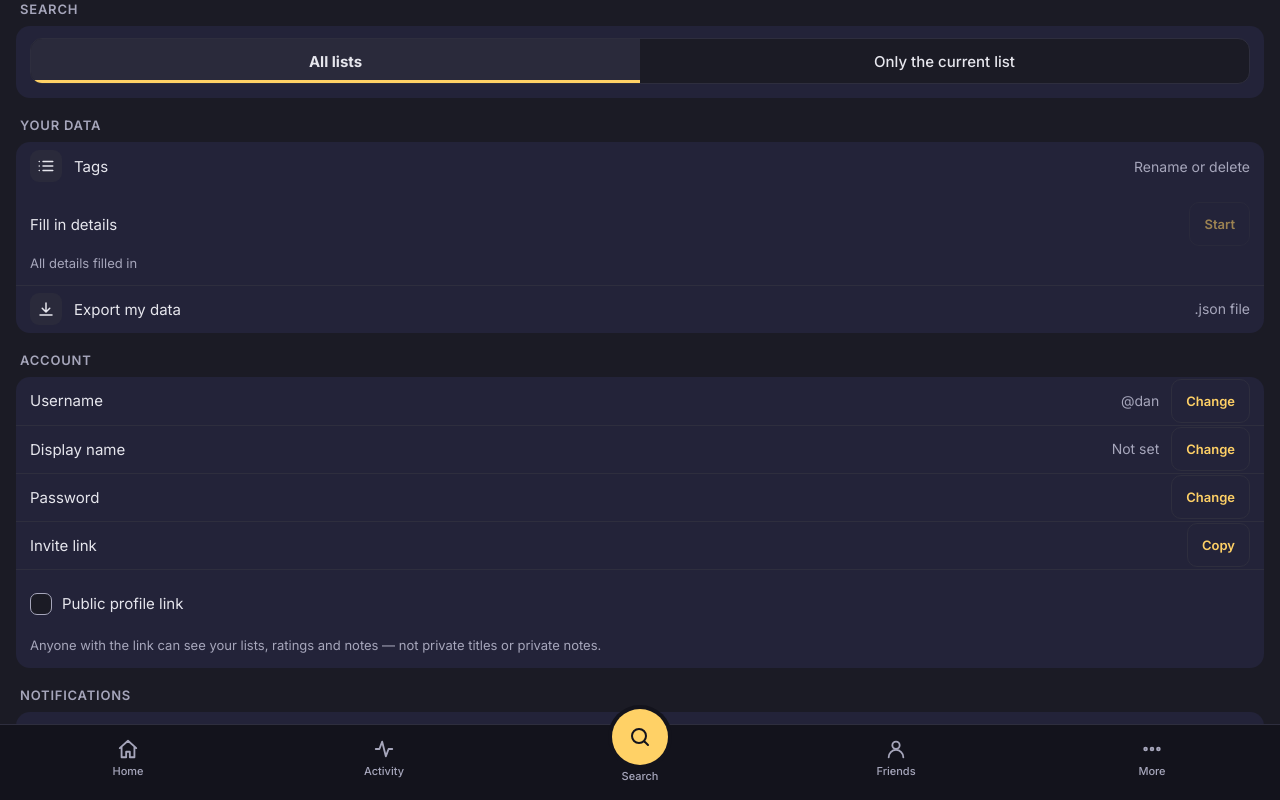
SettingsScreen › changes the username, showing a taken error inline
(page scrolled)
Click the button with aria-label "Change username": (1211, 401) [1171, 379, 1250, 423]
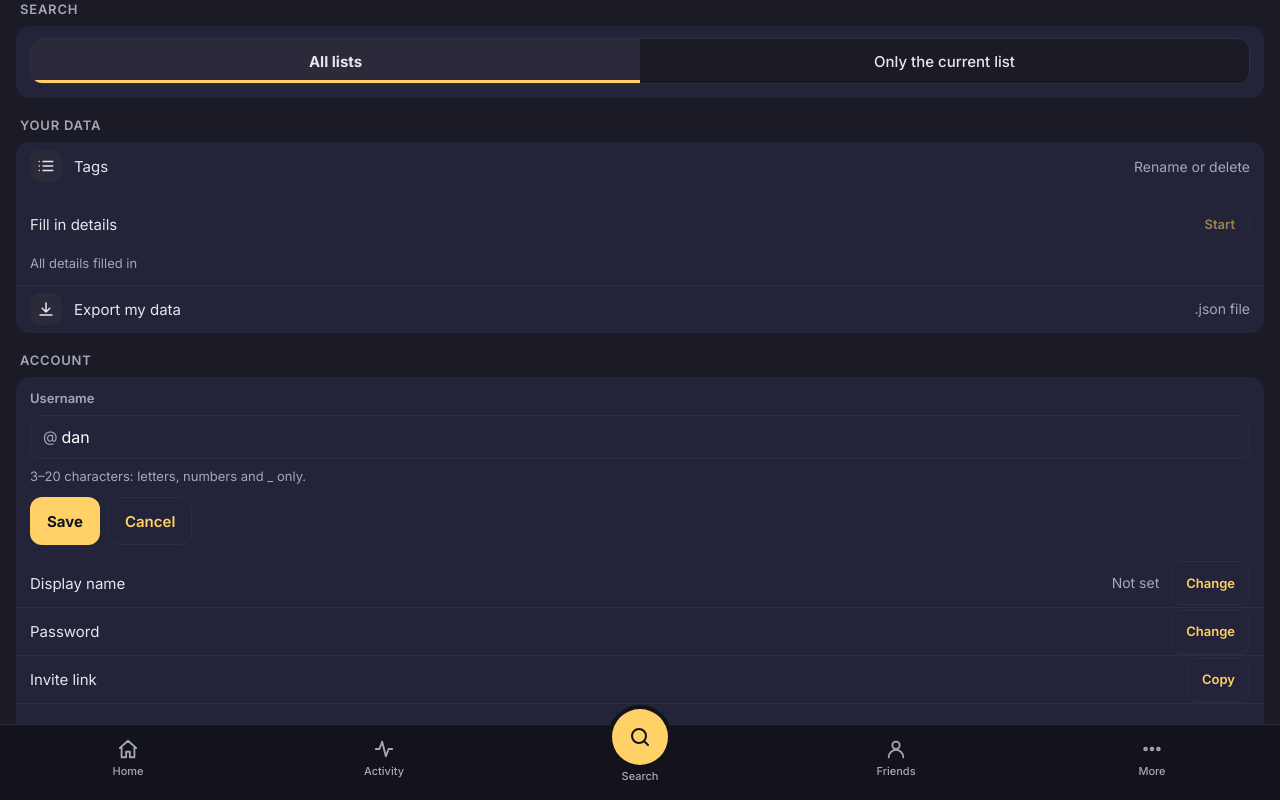
Replace the text in the field labelled "Username" with "ren": (648, 437) [60, 416, 1237, 458]
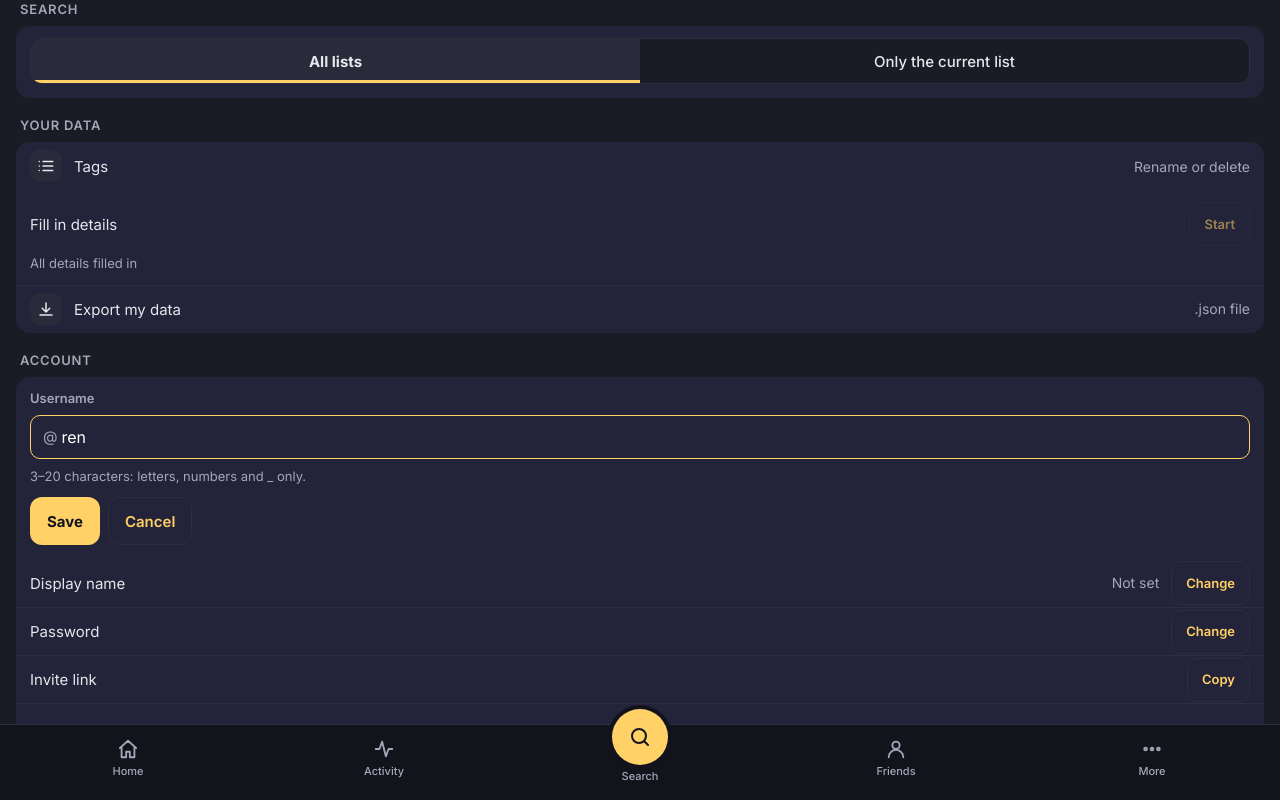
Click the button "Save": (65, 521) [30, 497, 100, 545]
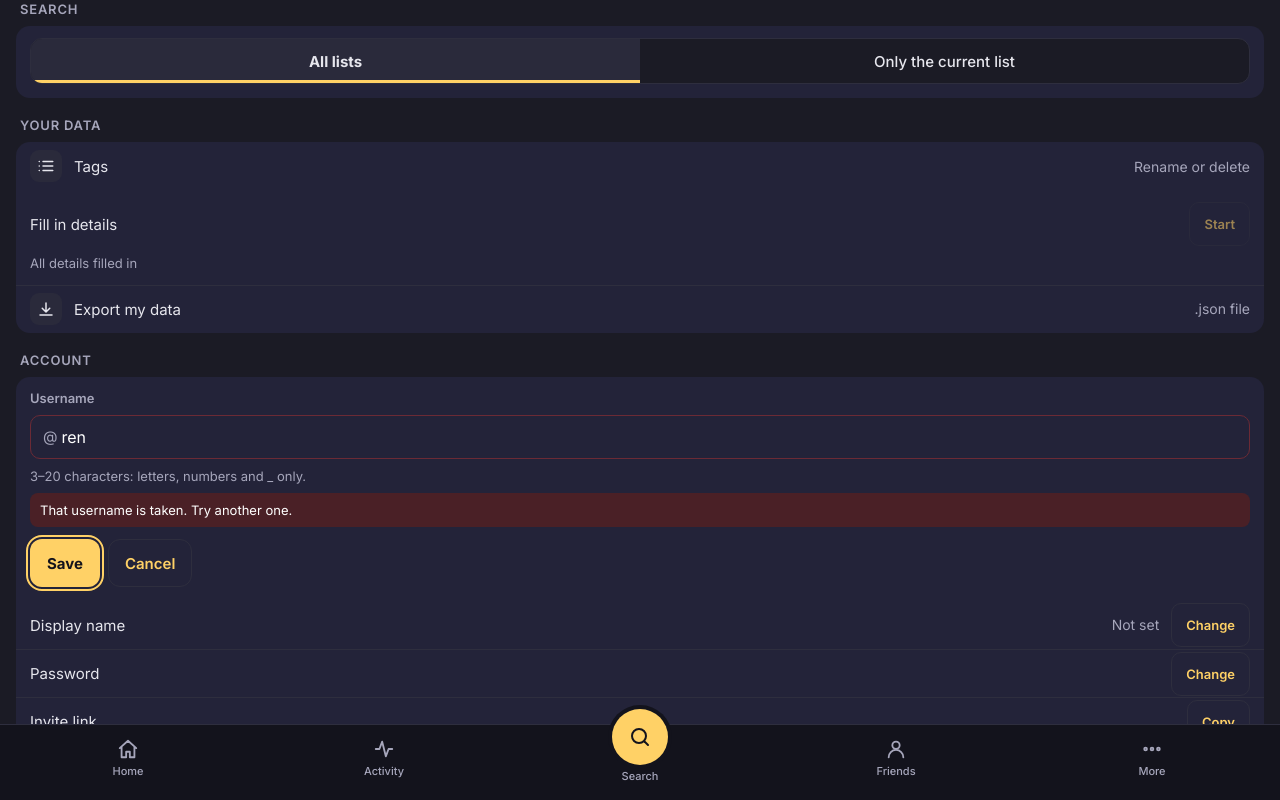
Check: the message reads "That username is taken. Try another one.", box [40, 502, 292, 518]
Replace the text in the field labelled "Username" with "dan2": (648, 437) [60, 416, 1237, 458]
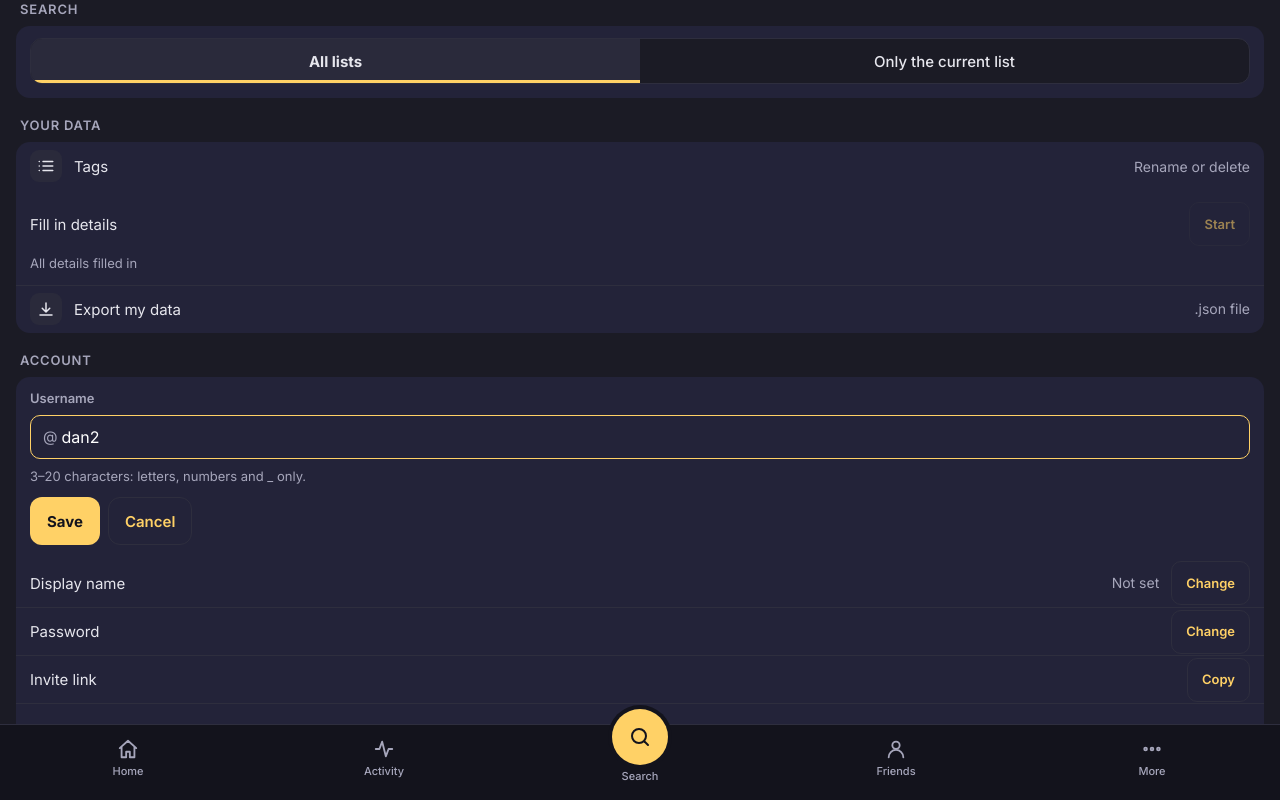
Click the button "Save": (65, 521) [30, 497, 100, 545]
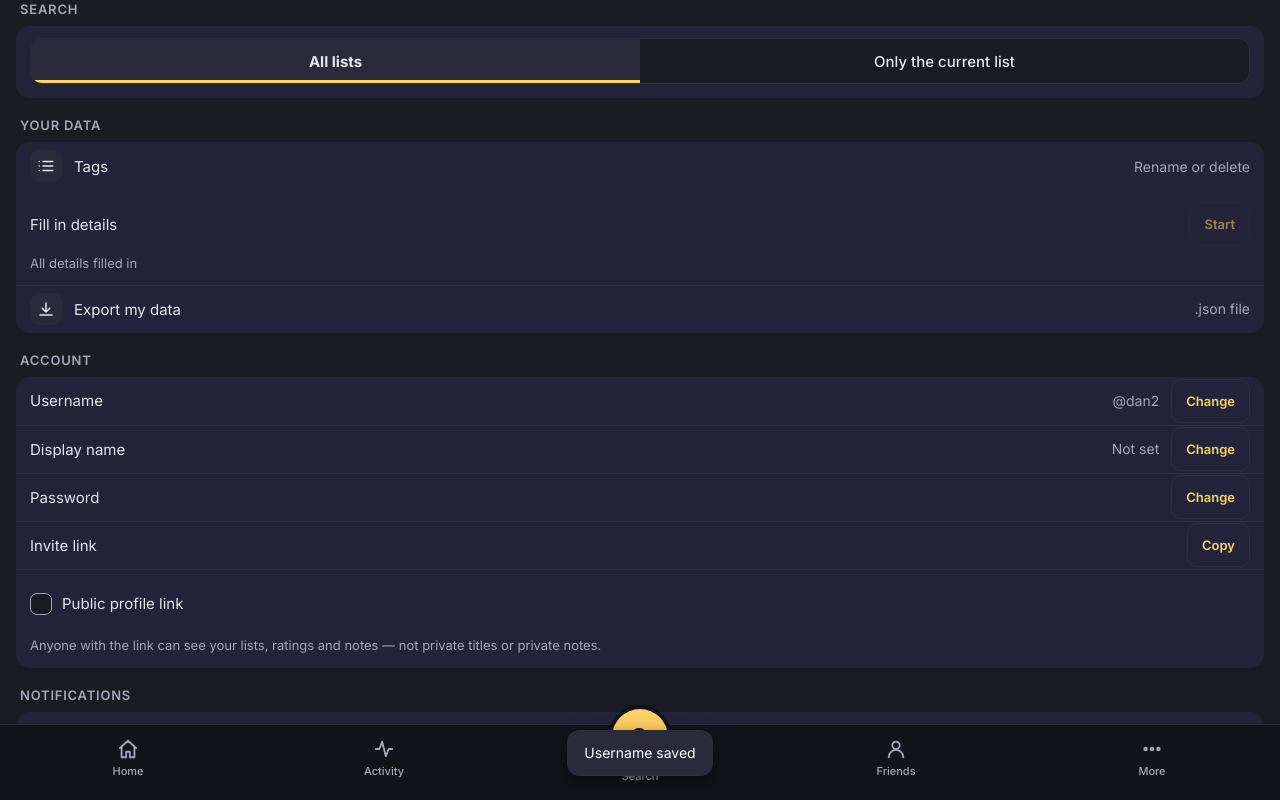
Check: the text "@dan2" is shown, box [1112, 391, 1159, 410]
